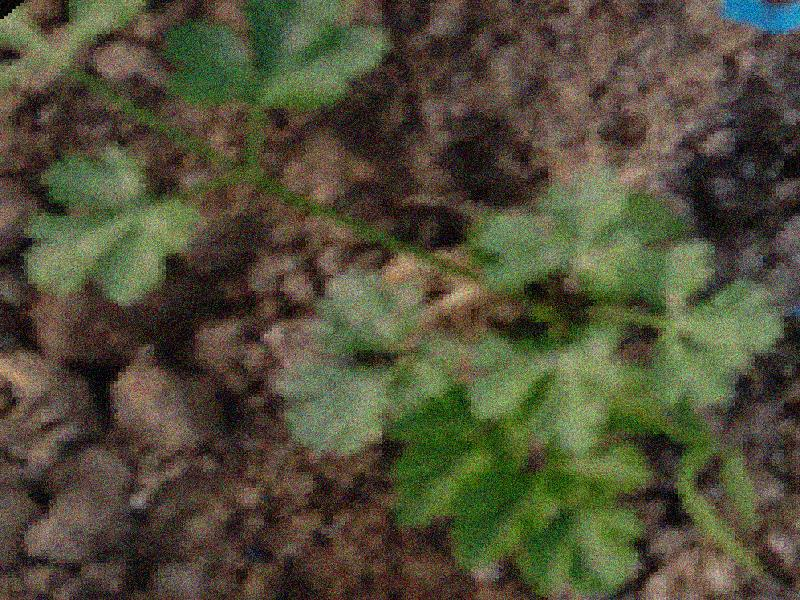radish: (241, 0, 800, 600)
